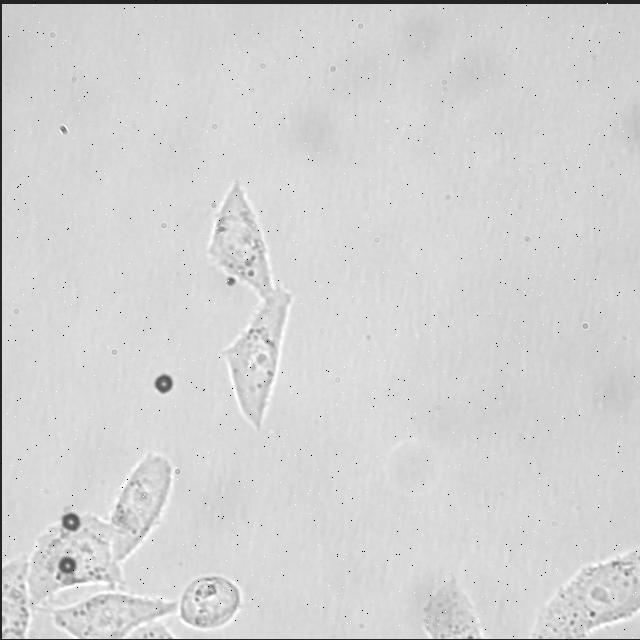microbeads: (150, 370, 173, 396), (59, 552, 80, 576), (64, 509, 82, 531)
